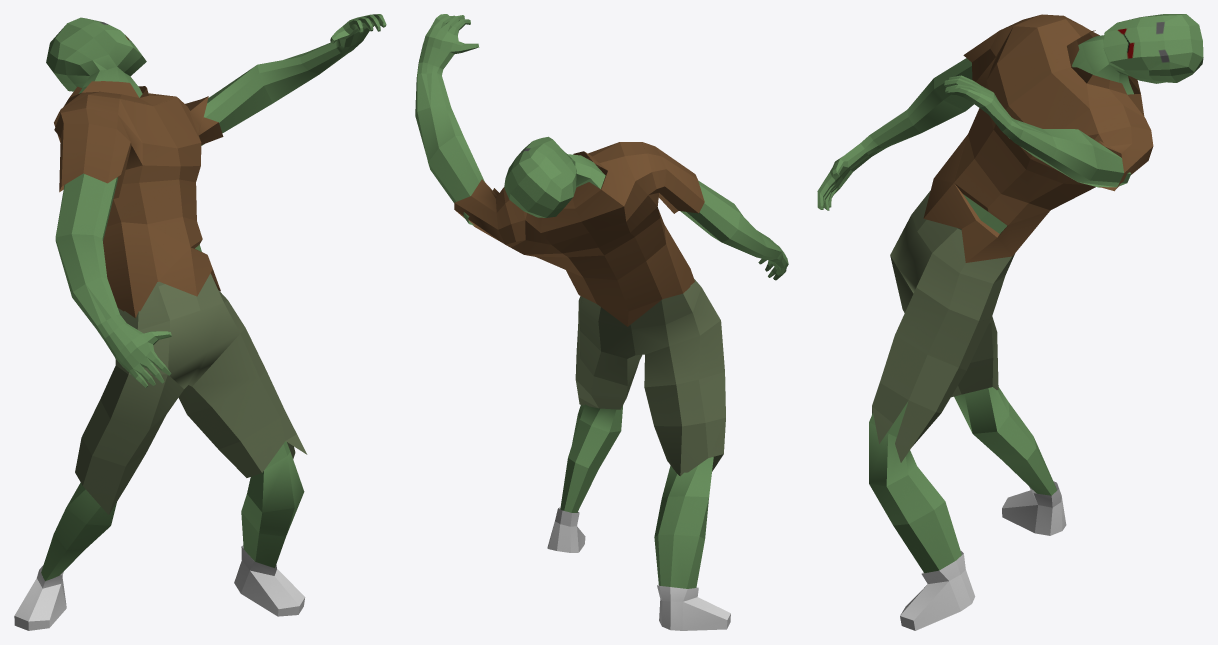
The model's file is ZombieDead(8).obj.
3 views of the same model, side by side, from view 1: azimuth 30°, elevation 25°; view 2: azimuth 150°, elevation 25°; view 3: azimuth 270°, elevation 25° (orthographic). The views are drawn at different scales.
Parts seen in each view (by area): view 1: Object001; view 2: Object001; view 3: Object001.
Part boxes in pixels (<box>): Object001: <box>14,14,386,630</box>; Object001: <box>415,14,788,630</box>; Object001: <box>817,14,1203,630</box>.
Size of the model in its own units: 34.49 by 53.51 by 31.36.
